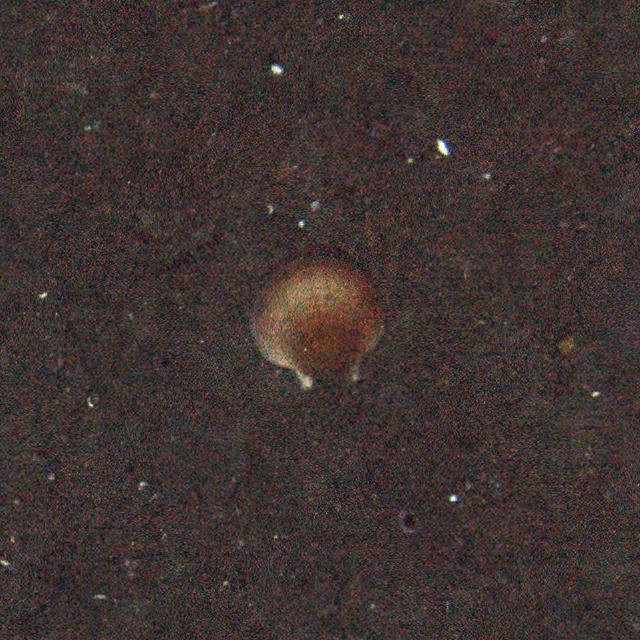scallop: (248, 246, 393, 396)
